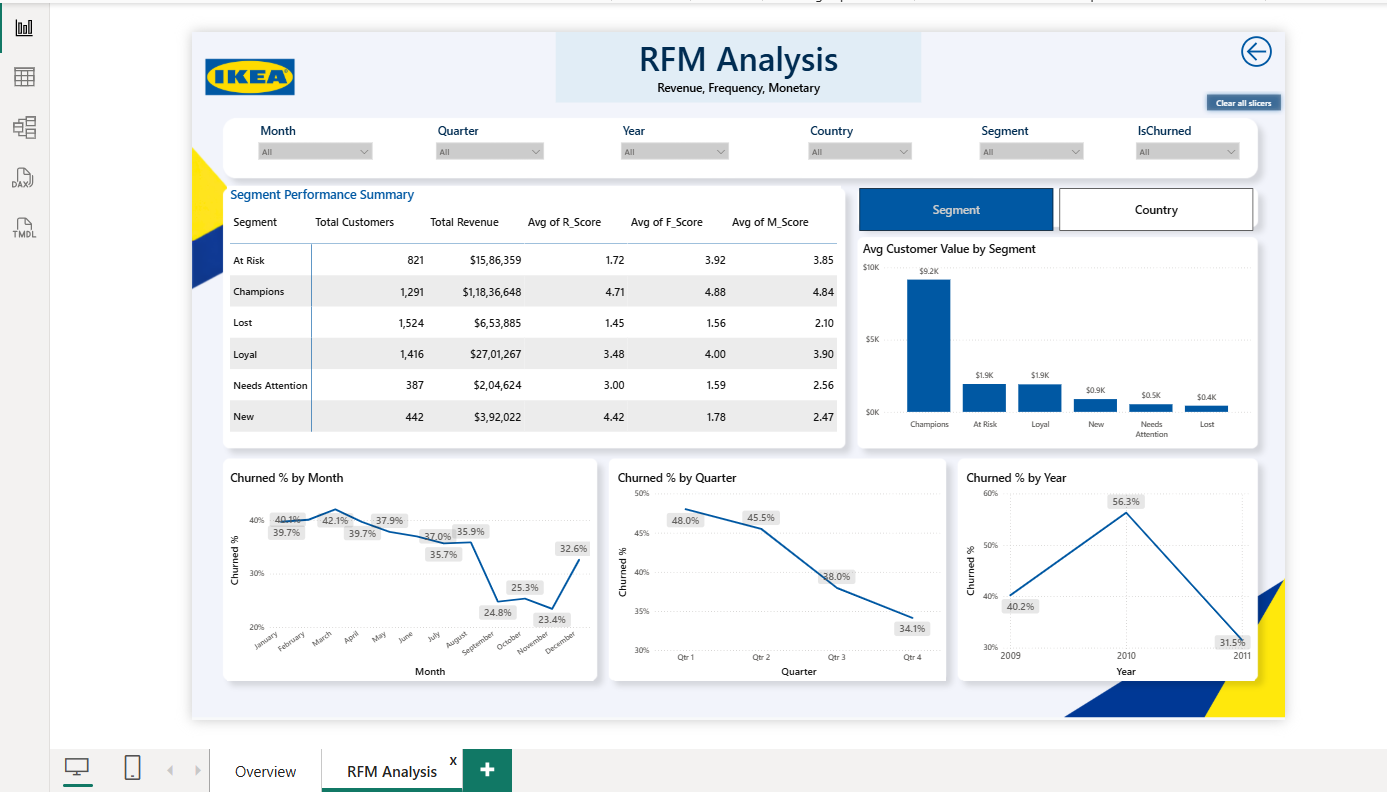

This screenshot's page, from the dashboard's own definition file:
{"tool":"powerbi","page":{"name":"RFM Analysis","canvas":[1750,1100],"ordinal":1},"visuals":[{"type":"slicer","fields":{"Values":["Sheet1.InvoiceDate.Variation.Date Hierarchy.Month"]},"box":[95.6,140.6,202.5,92.5],"z":0},{"type":"pivotTable","title":"Segment Performance Summary","fields":{"Rows":["Sheet1.Segment"],"Values":["Sheet1.Total Customers","Sheet1.Total Revenue","Avg(Sheet1.R_Score)","Avg(Sheet1.F_Score)","Avg(Sheet1.M_Score)"]},"box":[55.3,247,982.4,412.9],"z":0,"group":"g2"},{"type":"lineChart","fields":{"Y":["Sheet1.Churned %"],"Category":["Sheet1.InvoiceMonth.Variation.Date Hierarchy.Month"]},"box":[56,700,586,338],"z":0,"group":"g1"},{"type":"slicer","fields":{"Values":["Sheet1.InvoiceDate.Variation.Date Hierarchy.Quarter"]},"box":[380,140.6,193.1,92.5],"z":1000},{"type":"columnChart","fields":{"Category":["Sheet1.Segment"],"Y":["Sheet1.Avg Customer Value"]},"box":[1067.5,335,632.5,325],"z":1000,"group":"g2"},{"type":"lineChart","fields":{"Y":["Sheet1.Churned %"],"Category":["Sheet1.InvoiceMonth.Variation.Date Hierarchy.Quarter"]},"box":[676,700,530,338],"z":1000,"group":"g1"},{"type":"slicer","fields":{"Values":["Sheet1.InvoiceDate.Variation.Date Hierarchy.Year"]},"box":[676.2,140.6,193.1,92.5],"z":2000},{"type":"lineChart","fields":{"Y":["Sheet1.Churned %"],"Category":["Sheet1.InvoiceMonth.Variation.Date Hierarchy.Year"]},"box":[1234,700,466,338],"z":2000,"group":"g1"},{"type":"actionButton","box":[1672.2,0.5,85,62.5],"z":3000,"group":"g1"},{"type":"slicer","fields":{"Values":["Sheet1.Country"]},"box":[975.6,140.6,185.6,92.5],"z":3000},{"type":"slicer","fields":{"Values":["Sheet1.Segment"]},"box":[1250,140,186.7,93.3],"z":4000},{"type":"slicer","fields":{"Values":["Sheet1.IsChurned"]},"box":[1500,140.6,185.6,92.5],"z":5000},{"type":"group","id":"g1","title":"Revenue","box":[56,0.5,1701.2,1037.5],"z":7000},{"type":"bookmarkNavigator","box":[1068.3,250,631.7,68.3],"z":8000},{"type":"image","box":[0,1.1,185.6,140],"z":9000},{"type":"textbox","box":[582.5,0,585,112.5],"z":10000},{"type":"actionButton","box":[1615.7,92.9,134.3,41.4],"z":11000},{"type":"group","id":"g2","title":"Segment","box":[55.3,247,1644.7,413],"z":13000}]}

Visuals, with their boxes on the page's 1750x1100 design canvas (x1, y1, x2, y2). These are canvas units, not pixel positions in the 1387x792 screenshot, which may show the page scaled, cropped or inside an application window:
slicer - Sheet1.InvoiceDate.Variation.Date Hierarchy.Month: rect(96, 141, 298, 233)
"Segment Performance Summary" pivotTable: rect(55, 247, 1038, 660)
lineChart - Sheet1.Churned % x Sheet1.InvoiceMonth.Variation.Date Hierarchy.Month: rect(56, 700, 642, 1038)
slicer - Sheet1.InvoiceDate.Variation.Date Hierarchy.Quarter: rect(380, 141, 573, 233)
columnChart - Sheet1.Segment x Sheet1.Avg Customer Value: rect(1068, 335, 1700, 660)
lineChart - Sheet1.Churned % x Sheet1.InvoiceMonth.Variation.Date Hierarchy.Quarter: rect(676, 700, 1206, 1038)
slicer - Sheet1.InvoiceDate.Variation.Date Hierarchy.Year: rect(676, 141, 869, 233)
lineChart - Sheet1.Churned % x Sheet1.InvoiceMonth.Variation.Date Hierarchy.Year: rect(1234, 700, 1700, 1038)
actionButton: rect(1672, 0, 1757, 63)
slicer - Sheet1.Country: rect(976, 141, 1161, 233)
slicer - Sheet1.Segment: rect(1250, 140, 1437, 233)
slicer - Sheet1.IsChurned: rect(1500, 141, 1686, 233)
"Revenue" group: rect(56, 0, 1757, 1038)
bookmarkNavigator: rect(1068, 250, 1700, 318)
image: rect(0, 1, 186, 141)
textbox: rect(582, 0, 1168, 112)
actionButton: rect(1616, 93, 1750, 134)
"Segment" group: rect(55, 247, 1700, 660)
